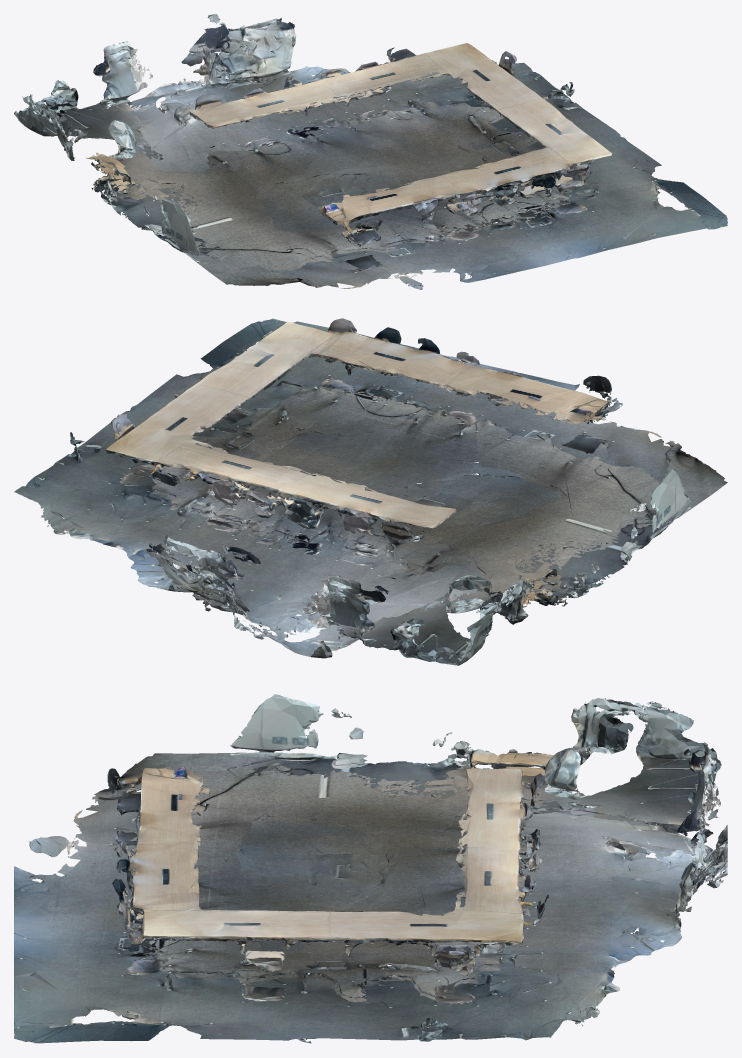
File: 4_404_floor_LOW_POLY.fbx
3 renders of one model, top to bottom at view 1: azimuth 30°, elevation 25°; view 2: azimuth 150°, elevation 25°; view 3: azimuth 270°, elevation 25°, orthographic. The views are drawn at different scales.
Visible parts, largest first — view 1: 4_404_floor_LOW_POLY; view 2: 4_404_floor_LOW_POLY; view 3: 4_404_floor_LOW_POLY.
Boxes of the visible parts, x1,y1,x2,y2 form: 4_404_floor_LOW_POLY: (14,14,727,289); 4_404_floor_LOW_POLY: (14,318,727,665); 4_404_floor_LOW_POLY: (14,694,727,1043).
Bounding box in the file's own units: 762 × 116 × 821.
1 material, 1 textured.
